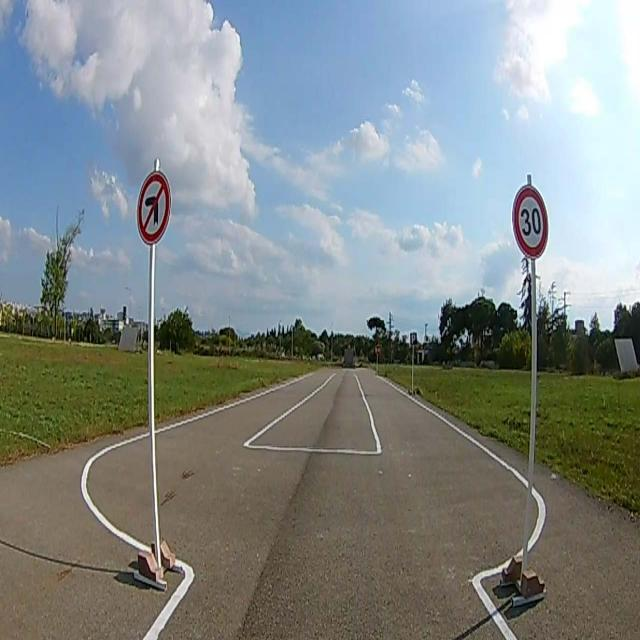30: (512, 187, 549, 257)
soladonulmez: (136, 172, 170, 244)
